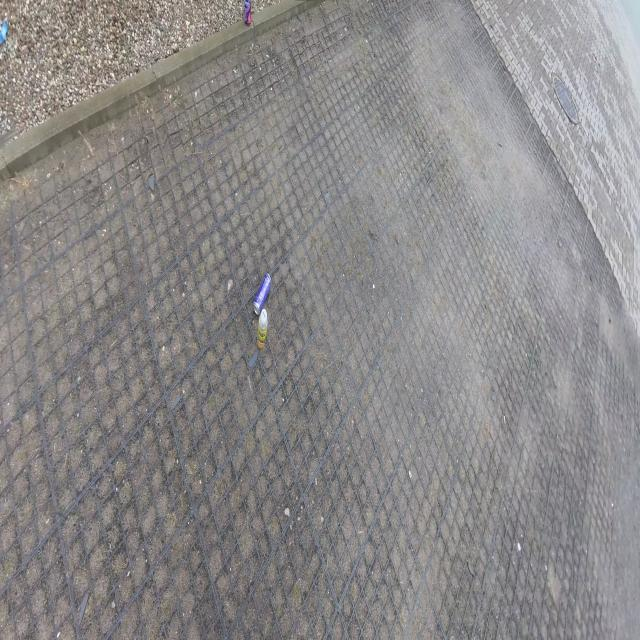rubbish: (253, 272, 271, 315), (256, 307, 268, 348), (0, 19, 8, 48), (244, 0, 251, 25)
